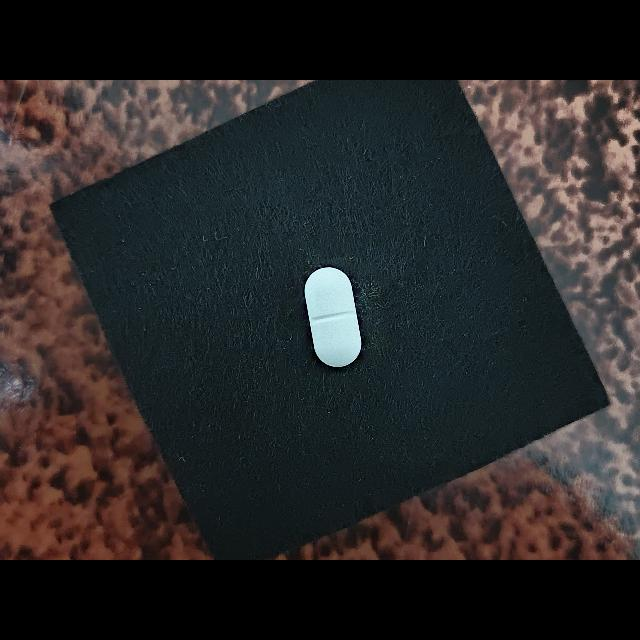Intact Pill: (305, 267, 362, 367)
